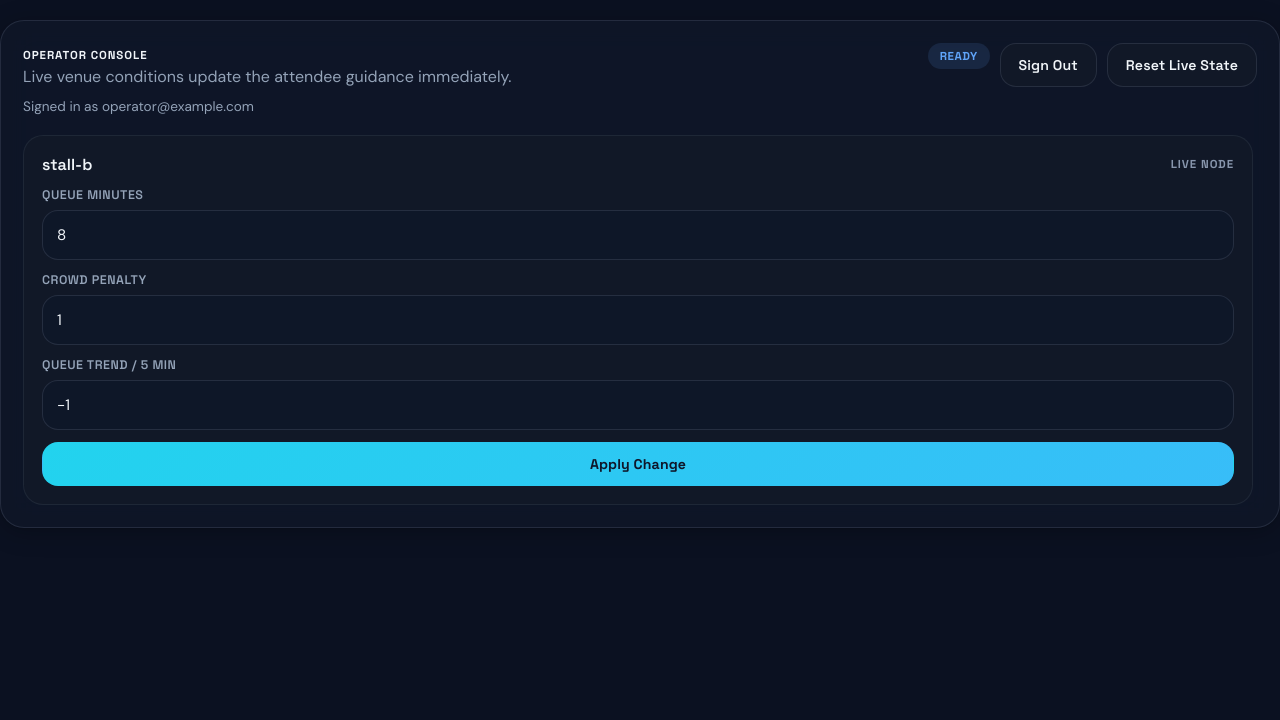
OperatorExperience with Firebase configured › shows an explicit reset error when operator token is unavailable
Expected: the heading "stall-b" is shown, [42, 154, 92, 175]
What coordinates should you click on to do the following:
click the button "Reset Live State"
I would click on:
 (1182, 65)
Its box is [1107, 43, 1257, 87].
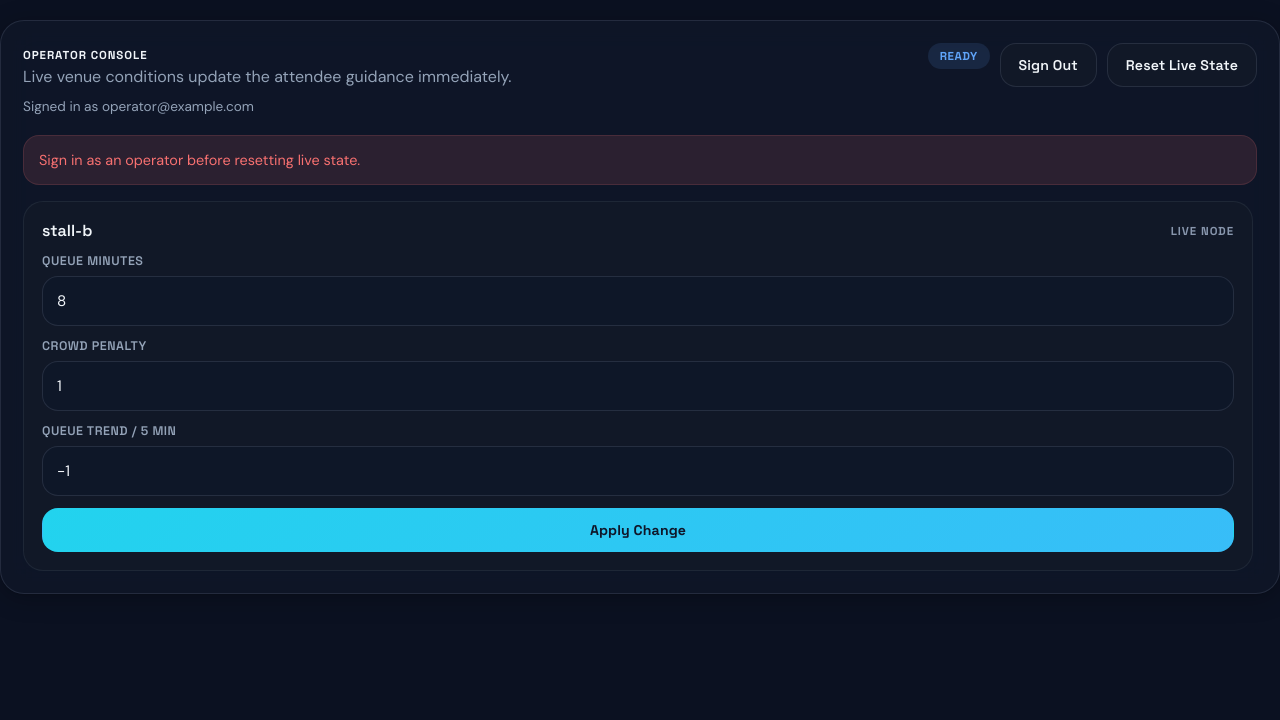
Expected: the text "Sign in as an operator before resetting live state." is shown, [23, 135, 1257, 185]
